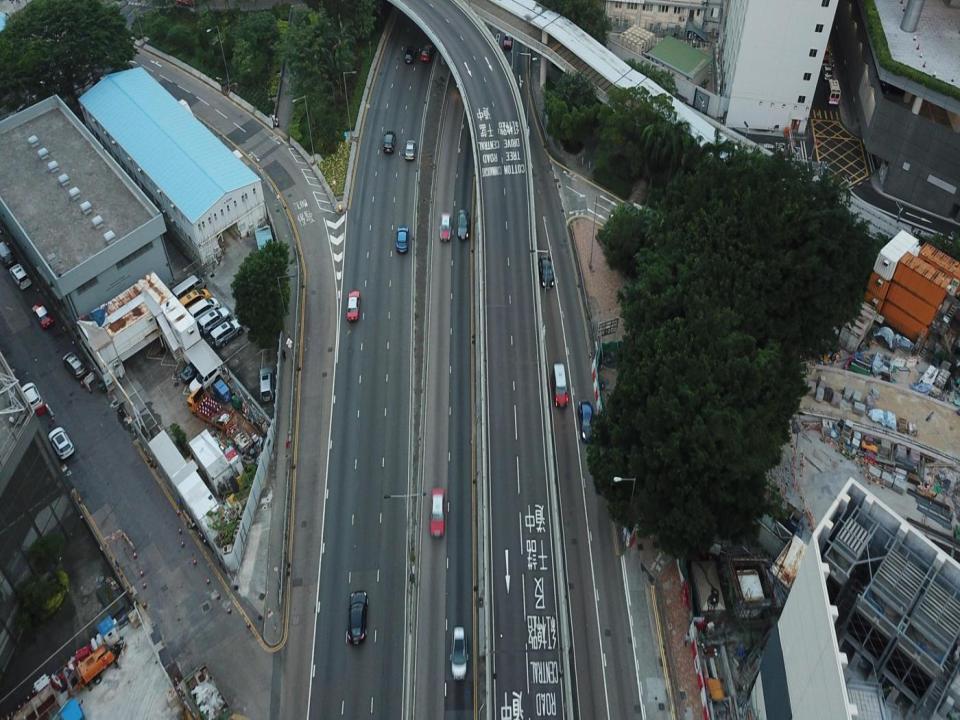car: (349, 590, 368, 645), (208, 320, 245, 346), (198, 307, 231, 333), (190, 363, 220, 391), (578, 399, 596, 445), (48, 426, 73, 459), (430, 487, 445, 540), (176, 288, 209, 312), (188, 296, 218, 321), (62, 352, 88, 379), (20, 382, 42, 412), (31, 301, 54, 329), (180, 360, 210, 381), (9, 263, 31, 291), (541, 254, 555, 290), (347, 288, 360, 326), (456, 208, 468, 240), (395, 227, 408, 255), (420, 40, 433, 65), (383, 131, 395, 157), (440, 213, 450, 244), (404, 42, 416, 67), (404, 140, 416, 162), (822, 62, 833, 84), (504, 24, 513, 49)
truck: (188, 387, 239, 432)
van: (450, 625, 468, 681), (172, 274, 206, 301), (550, 364, 568, 409), (258, 365, 275, 403), (825, 78, 841, 107), (0, 240, 16, 268), (817, 36, 830, 61)
